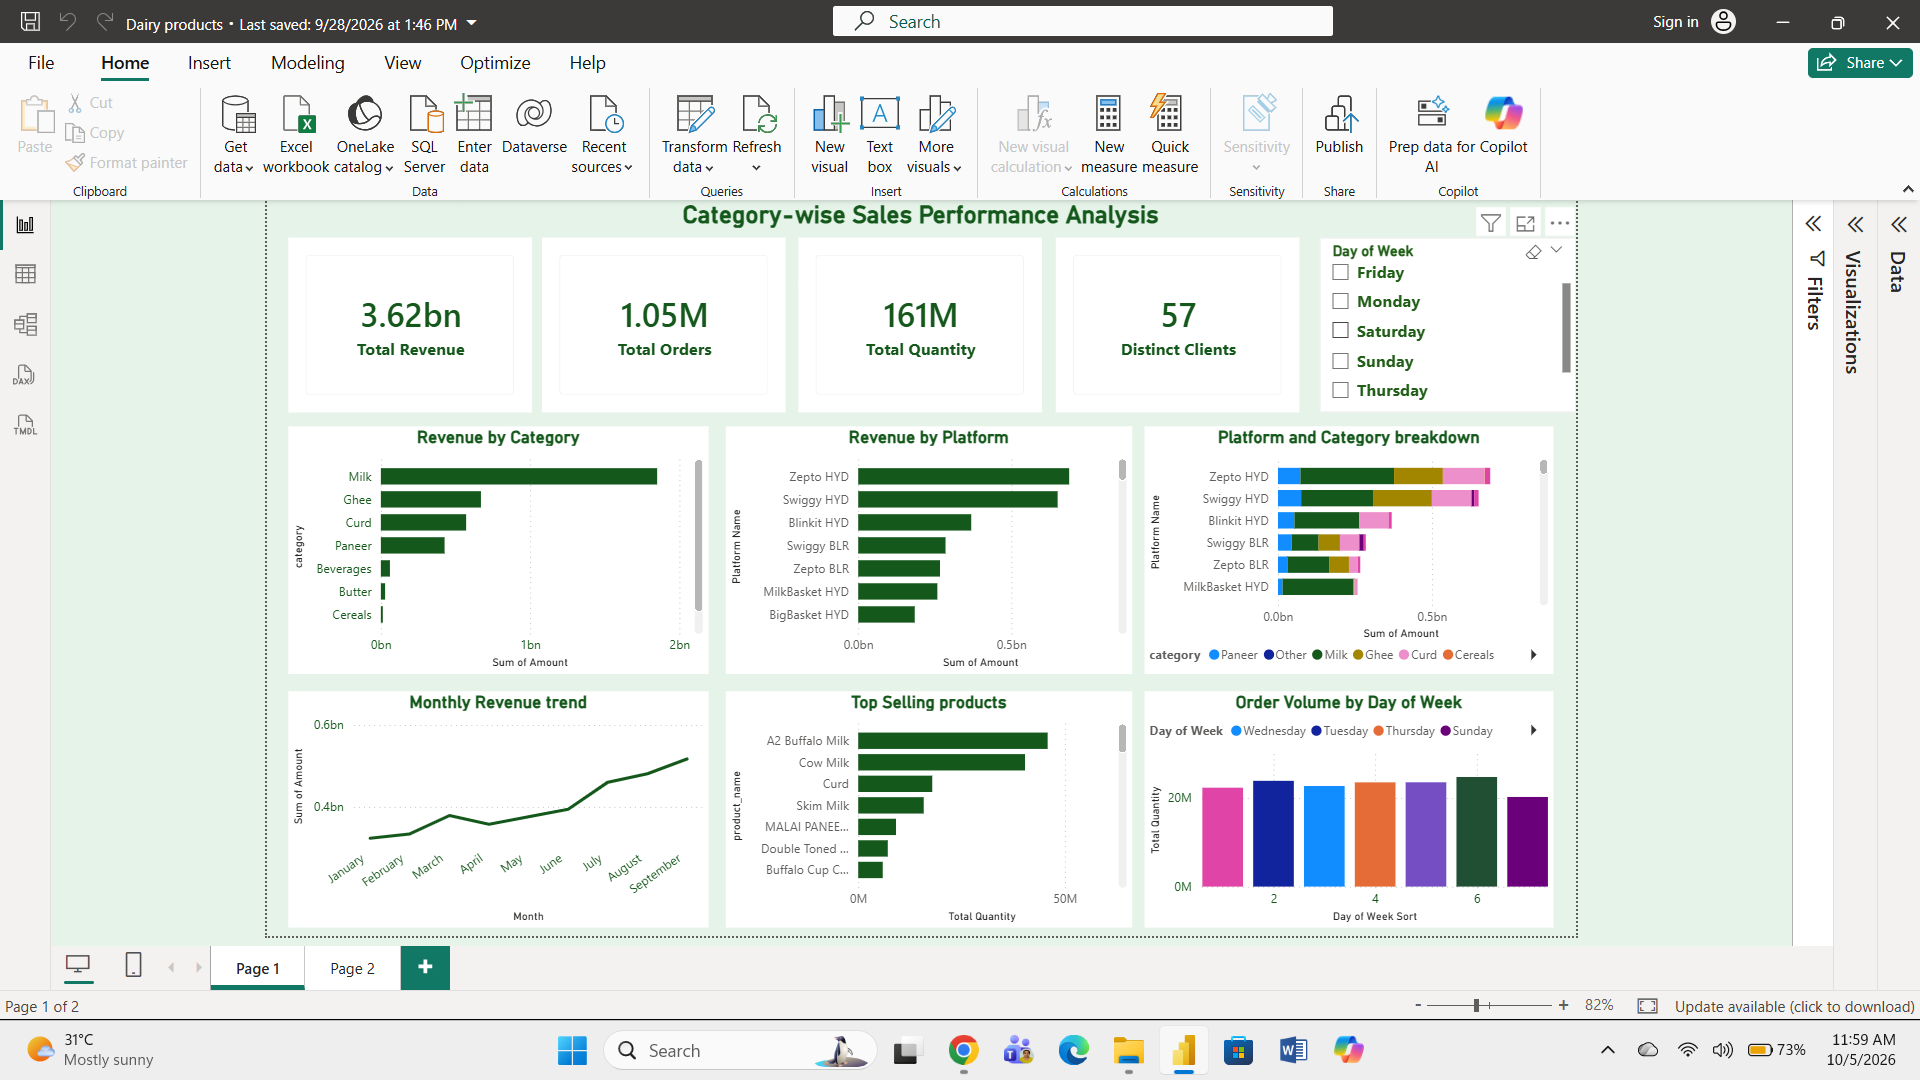

This screenshot's page, from the dashboard's own definition file:
{"tool":"powerbi","page":{"name":"Page 1","canvas":[1280,720],"ordinal":0},"visuals":[{"type":"textbox","title":"Category-wise Sales Performance Analysis","box":[188.3,0,902.5,84.4],"z":0},{"type":"cardVisual","fields":{"Data":["result.Total Revenue"]},"box":[20.8,36.7,238.5,171.2],"z":1000},{"type":"cardVisual","fields":{"Data":["result.Total Orders"]},"box":[269,36.7,238.5,171.2],"z":2000},{"type":"cardVisual","fields":{"Data":["result.Total Quantity"]},"box":[519.7,36.7,238.5,171.2],"z":3000},{"type":"cardVisual","fields":{"Data":["result.Distinct Clients"]},"box":[771.6,36.7,238.5,171.2],"z":4000},{"type":"barChart","title":"Revenue by Category","fields":{"Category":["result.category"],"Y":["Sum(result.Amount)"]},"box":[20.8,221.3,410.9,242.1],"z":6000},{"type":"lineChart","title":"Monthly Revenue trend ","fields":{"Category":["result.expected_delivery_date.Variation.Date Hierarchy.Month"],"Y":["Sum(result.Amount)"]},"box":[20.8,480.6,410.9,231.1],"z":7000},{"type":"barChart","title":"Revenue by Platform","fields":{"Category":["result.first_name"],"Y":["Sum(result.Amount)"]},"box":[448.8,221.3,397.4,242.1],"z":8000},{"type":"barChart","title":"Top Selling products","fields":{"Category":["result.product_name"],"Y":["result.Total Quantity"]},"box":[448.8,480.6,397.4,231.1],"z":9000},{"type":"barChart","title":"Platform and Category breakdown","fields":{"Series":["result.category"],"Category":["result.first_name"],"Y":["Sum(result.Amount)"]},"box":[858.4,221.3,399.9,242.1],"z":10000},{"type":"columnChart","title":"Order Volume by Day of Week","fields":{"Y":["result.Total Quantity"],"Category":["Result.Day of Week Sort"],"Series":["Result.Day of Week"]},"box":[858.4,480.6,399.9,231.1],"z":11000},{"type":"slicer","fields":{"Values":["Result.Day of Week"]},"box":[1029.6,36.7,250.7,171.2],"z":11001}]}

Visuals, with their boxes on the page's 1280x720 design canvas (x1, y1, x2, y2). These are canvas units, not pixel positions in the 1920x1080 screenshot, which may show the page scaled, cropped or inside an application window:
"Category-wise Sales Performance Analysis" textbox: BBox(188, 0, 1091, 84)
cardVisual - result.Total Revenue: BBox(21, 37, 259, 208)
cardVisual - result.Total Orders: BBox(269, 37, 508, 208)
cardVisual - result.Total Quantity: BBox(520, 37, 758, 208)
cardVisual - result.Distinct Clients: BBox(772, 37, 1010, 208)
"Revenue by Category" barChart: BBox(21, 221, 432, 463)
"Monthly Revenue trend " lineChart: BBox(21, 481, 432, 712)
"Revenue by Platform" barChart: BBox(449, 221, 846, 463)
"Top Selling products" barChart: BBox(449, 481, 846, 712)
"Platform and Category breakdown" barChart: BBox(858, 221, 1258, 463)
"Order Volume by Day of Week" columnChart: BBox(858, 481, 1258, 712)
slicer - Result.Day of Week: BBox(1030, 37, 1280, 208)
